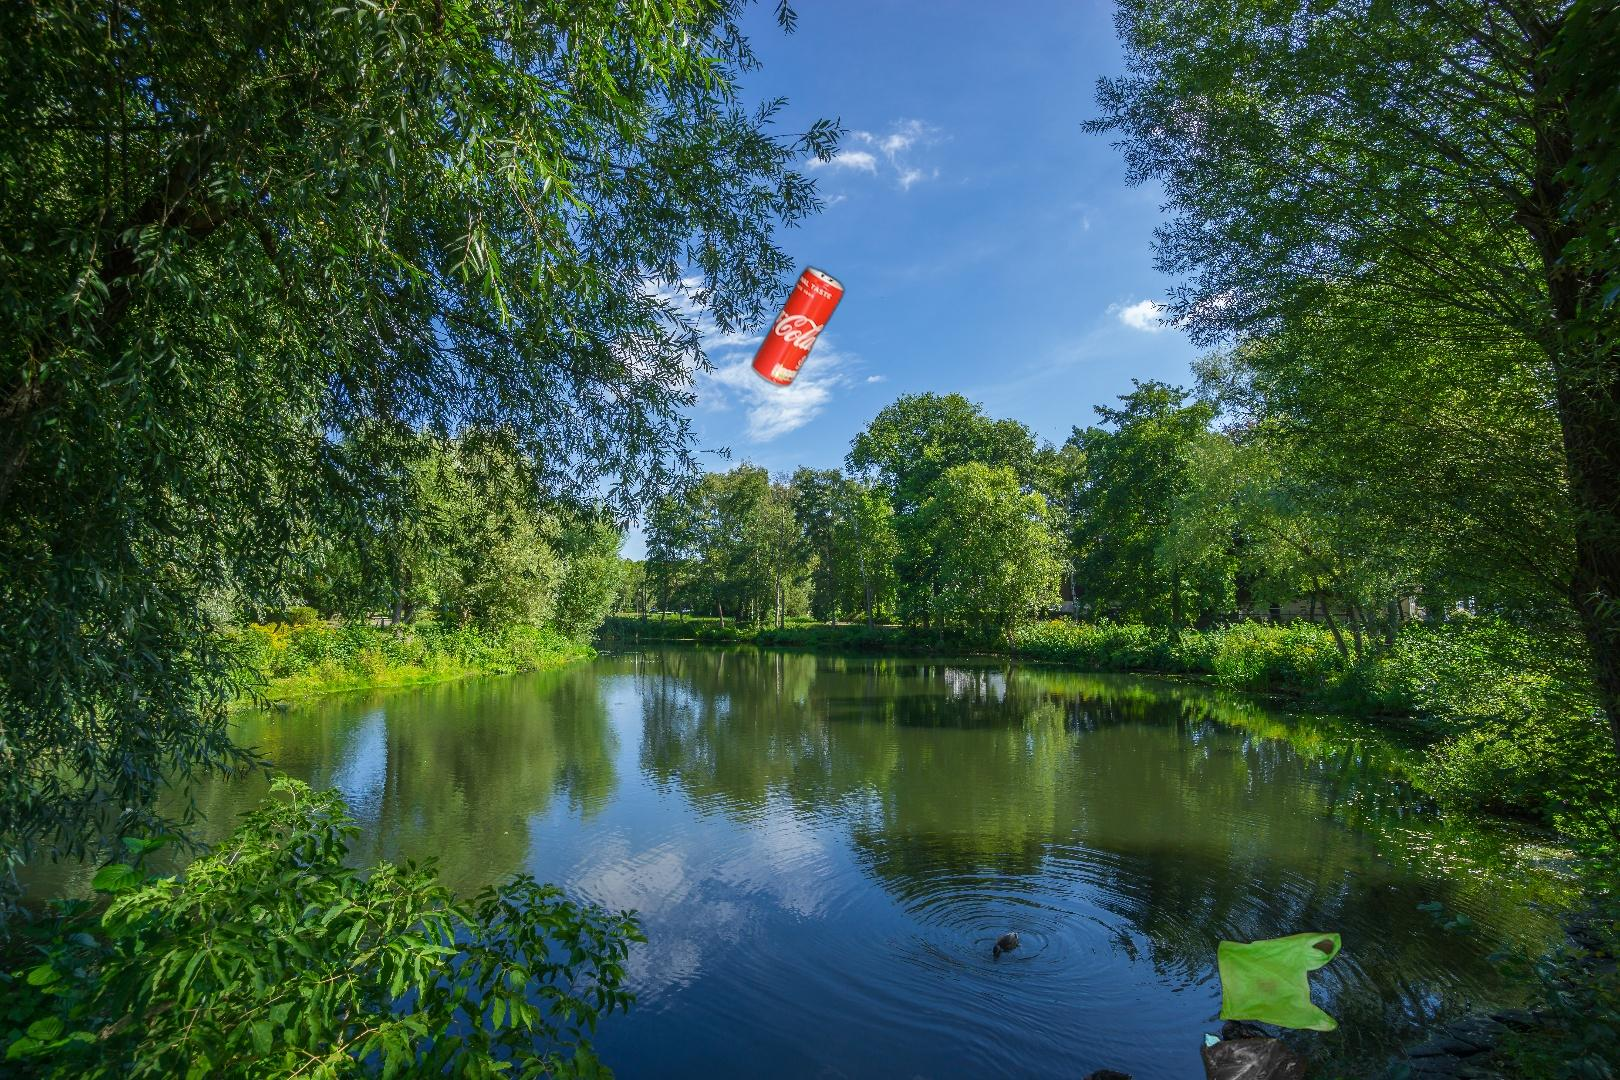metal-cans: (749, 260, 849, 393)
plastic-bag: (1198, 929, 1345, 1080)
